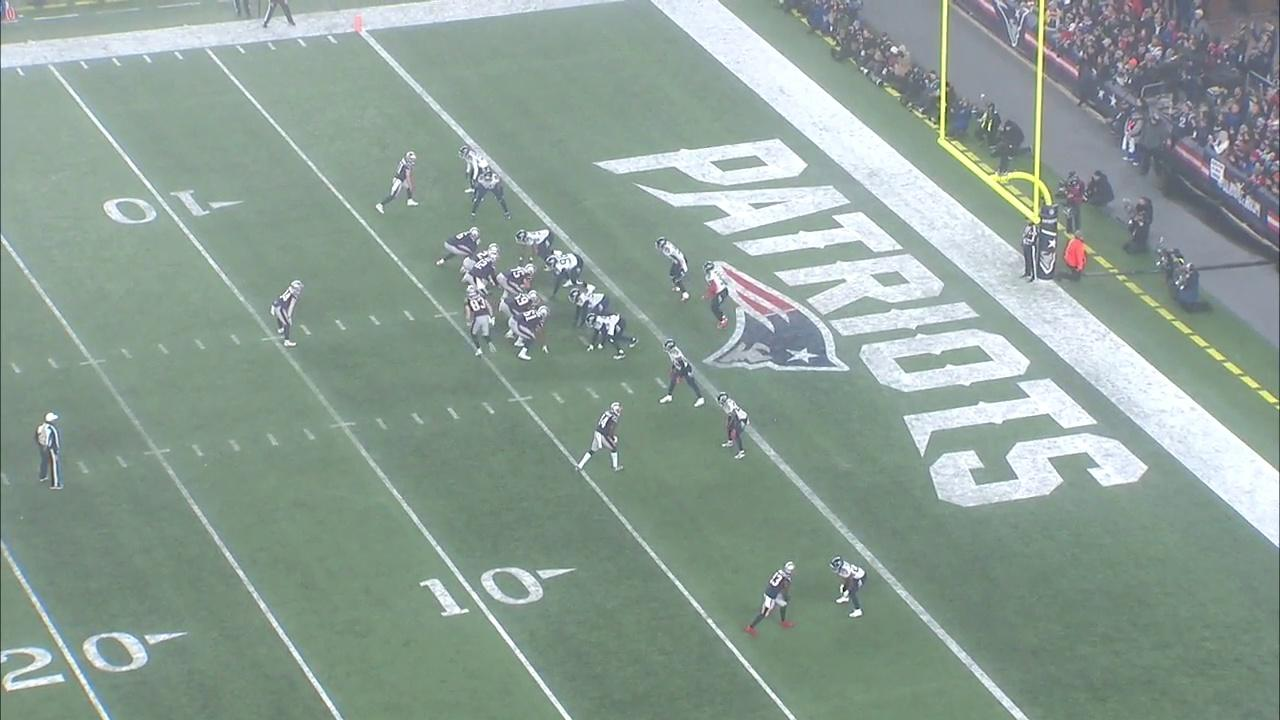defense: (655, 338, 706, 408), (825, 555, 871, 622), (584, 312, 640, 362), (715, 390, 752, 462), (654, 235, 691, 304), (513, 227, 565, 273), (468, 169, 513, 222), (544, 252, 597, 297), (699, 260, 732, 331), (457, 145, 490, 204), (567, 287, 611, 330)
oline: (507, 305, 553, 362), (499, 289, 541, 341), (434, 225, 483, 269), (461, 242, 502, 293), (496, 262, 538, 303)
qb: (464, 250, 503, 300)
ref: (33, 409, 68, 491), (1015, 214, 1040, 286)
skill: (744, 559, 797, 639), (573, 400, 627, 475), (374, 149, 421, 216), (463, 283, 499, 358), (269, 279, 305, 349)
